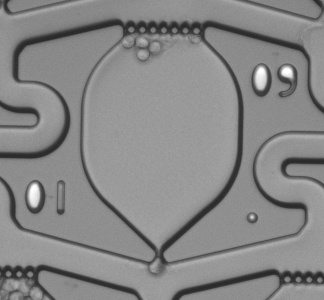AptNum: (246, 57, 302, 107)
Marker: (242, 206, 265, 228)
StNum: (23, 173, 74, 221)
Trap: (135, 252, 184, 295)
